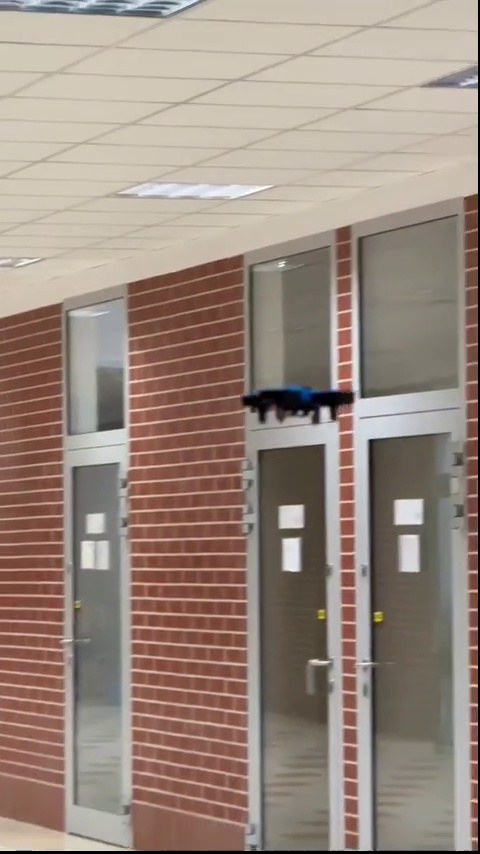drone: (234, 383, 355, 426)
